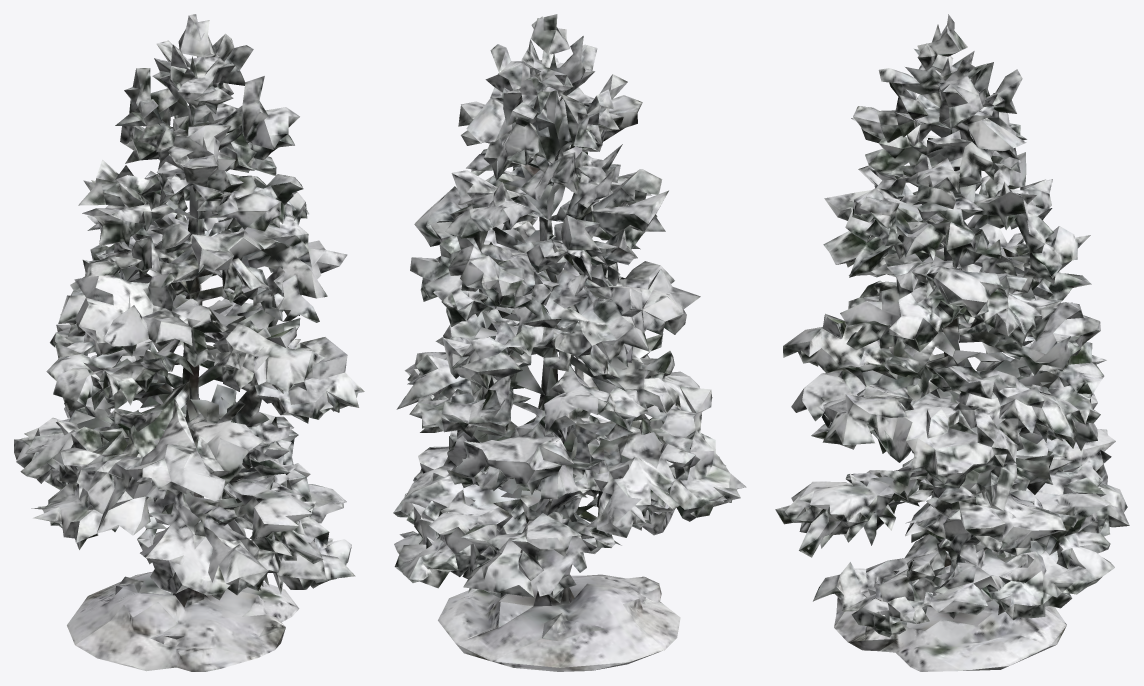
Rendered from model_glb.glb.
3 views of the same model, side by side, from view 1: azimuth 30°, elevation 25°; view 2: azimuth 150°, elevation 25°; view 3: azimuth 270°, elevation 25° (orthographic).
Parts seen in each view (by area): view 1: geometry_0; view 2: geometry_0; view 3: geometry_0.
Boxes of the visible parts, x1,y1,x2,y2 form: geometry_0: (14, 14, 364, 671); geometry_0: (393, 14, 746, 671); geometry_0: (775, 14, 1129, 671).
Bounding box in the file's own units: 3.33 × 6 × 3.15.
Materials: 1 (1 with a texture image).
